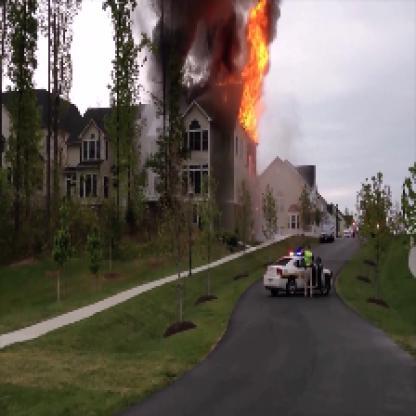Fire: (216, 2, 271, 137)
Smoke: (158, 2, 239, 100)
